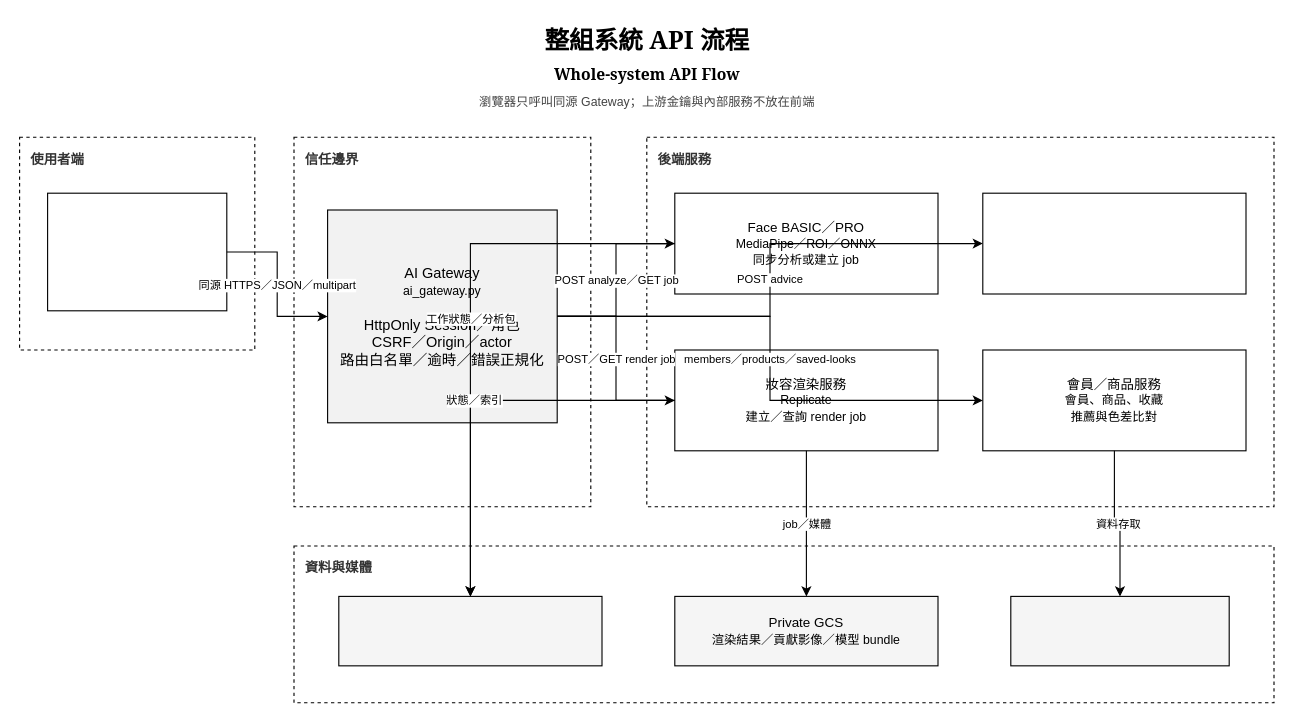
Image size: 1294x722. Some labels were removed from this diagram. Here are the shapes that lost their labels. From the top down, the centre of each, then its label:
At point (136, 251): "Browser SPA Firebase Hosting 上傳照片／查看結果 建議／渲染／推薦".
At point (1114, 243): "文字建議 Ollama／Gemma 3 分析結果 → 結構化建議".
At point (470, 630): "Firestore Job Store analysisPackage／job／回饋／狀態".
At point (1119, 630): "會員／商品資料庫 會員、商品、收藏資料".
